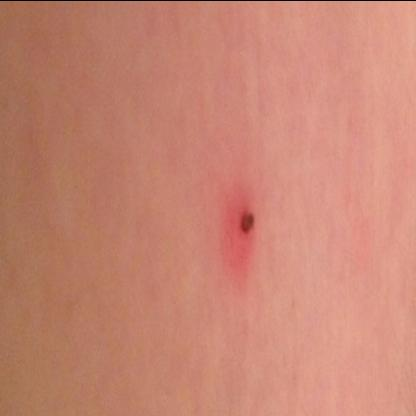Bed Bug: (242, 186, 324, 268)
